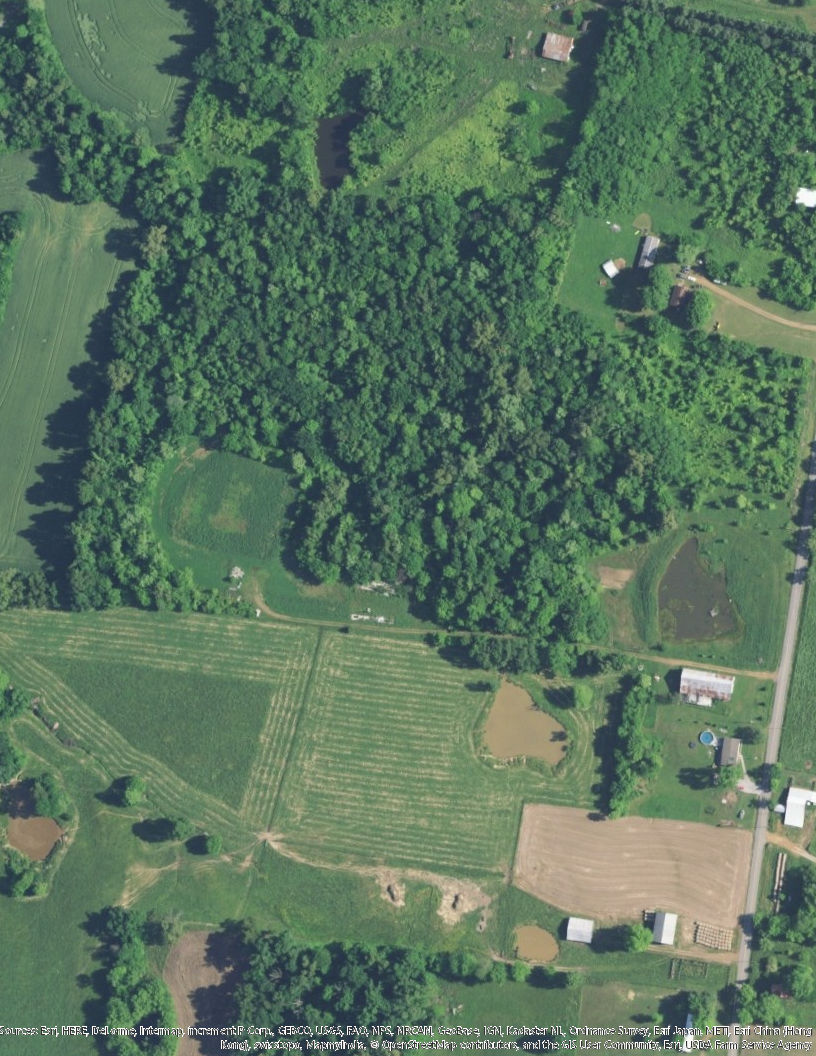cafo: (677, 663, 733, 702), (639, 234, 661, 275)
